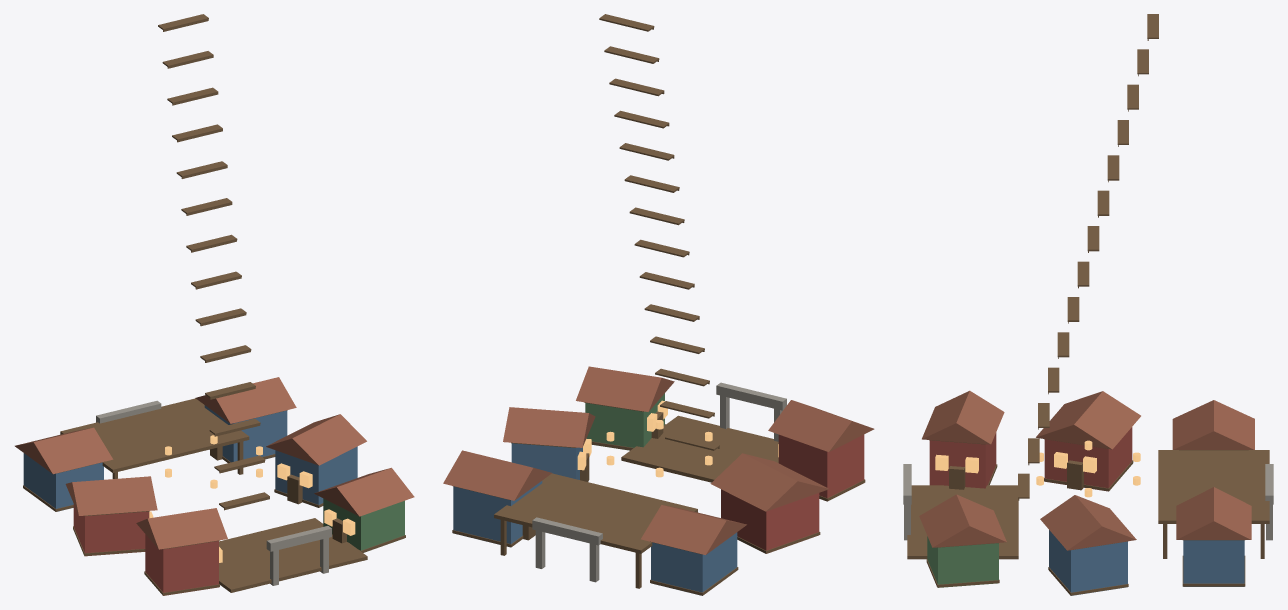
3 views of the same model, side by side, from view 1: azimuth 30°, elevation 25°; view 2: azimuth 150°, elevation 25°; view 3: azimuth 270°, elevation 25° (orthographic). The views are drawn at different scales.
Parts seen in each view (by area): view 1: walk_plat.001, walk_plat, cot_body.033, cot_roof.037, cot_roof.038, cot_roof.035, cot_roof.034, cot_body.037, cot_roof.033, cot_roof.036, cot_body.038, cot_body.034 (+4 smaller); view 2: walk_plat.001, walk_plat, cot_roof.037, cot_body.037, cot_body.033, cot_body.035, cot_roof.036, cot_roof.035, cot_roof.038, cot_roof.034, cot_roof.033, cot_body.036 (+4 smaller); view 3: walk_plat.001, walk_plat, cot_roof.037, cot_roof.035, cot_body.038, cot_roof.036, cot_roof.038, cot_roof.034, cot_roof.033, cot_body.036, cot_body.037, cot_body.034 (+1 smaller).
Boxes of the visible parts, bbox=[...] form: walk_plat.001: bbox=[60, 398, 249, 472]; walk_plat: bbox=[219, 518, 367, 592]; cot_body.033: bbox=[145, 534, 218, 595]; cot_roof.037: bbox=[65, 476, 157, 515]; cot_roof.038: bbox=[266, 414, 366, 465]; cot_roof.035: bbox=[15, 427, 113, 474]; cot_roof.034: bbox=[314, 467, 414, 516]; cot_body.037: bbox=[73, 504, 149, 556]; cot_roof.033: bbox=[136, 508, 227, 549]; cot_roof.036: bbox=[195, 377, 296, 423]; cot_body.038: bbox=[275, 446, 357, 504]; cot_body.034: bbox=[323, 498, 404, 550]; walk_plat.001: bbox=[494, 473, 697, 553]; walk_plat: bbox=[621, 415, 778, 482]; cot_roof.037: bbox=[710, 453, 829, 511]; cot_body.037: bbox=[721, 489, 819, 550]; cot_body.033: bbox=[778, 434, 864, 498]; cot_body.035: bbox=[651, 532, 737, 595]; cot_roof.036: bbox=[443, 450, 551, 500]; cot_roof.035: bbox=[641, 505, 746, 554]; cot_roof.038: bbox=[503, 407, 595, 447]; cot_roof.034: bbox=[576, 366, 674, 411]; cot_roof.033: bbox=[768, 400, 874, 451]; cot_body.036: bbox=[453, 481, 542, 547]; walk_plat.001: bbox=[1158, 450, 1269, 523]; walk_plat: bbox=[907, 485, 1018, 559]; cot_roof.037: bbox=[1036, 391, 1140, 449]; cot_roof.035: bbox=[1172, 400, 1254, 449]; cot_body.038: bbox=[1049, 530, 1127, 595]; cot_roof.036: bbox=[1176, 487, 1251, 539]; cot_roof.038: bbox=[1040, 495, 1136, 550]; cot_roof.034: bbox=[919, 494, 1006, 547]; cot_roof.033: bbox=[922, 390, 1004, 444]; cot_body.036: bbox=[1183, 540, 1244, 586]; cot_body.037: bbox=[1044, 427, 1132, 491]; cot_body.034: bbox=[927, 536, 998, 587].
Bounding box in the file's own units: 25.46 × 39.6 × 26.6.
